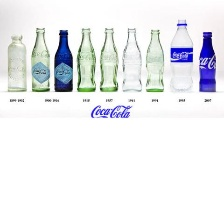bottle: (166, 16, 197, 95), (121, 24, 145, 98), (142, 27, 167, 96), (194, 27, 219, 96), (74, 24, 98, 95), (29, 26, 53, 95), (97, 25, 120, 96), (52, 26, 75, 94), (5, 31, 28, 94)
